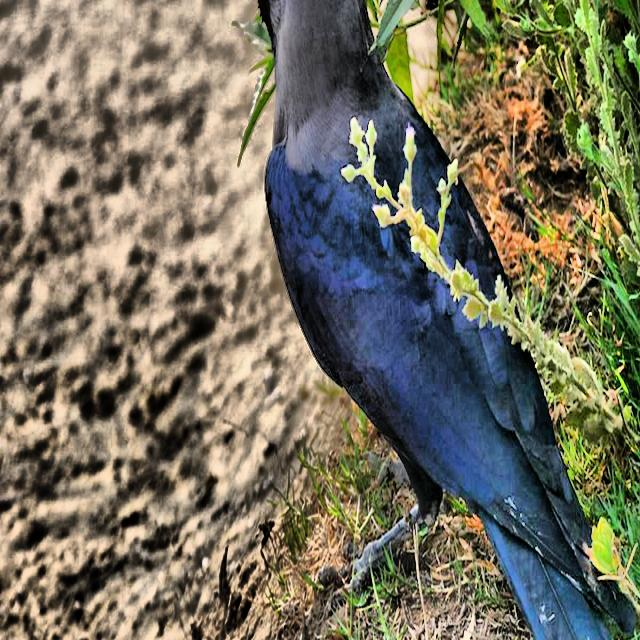crow: (230, 2, 612, 640)
